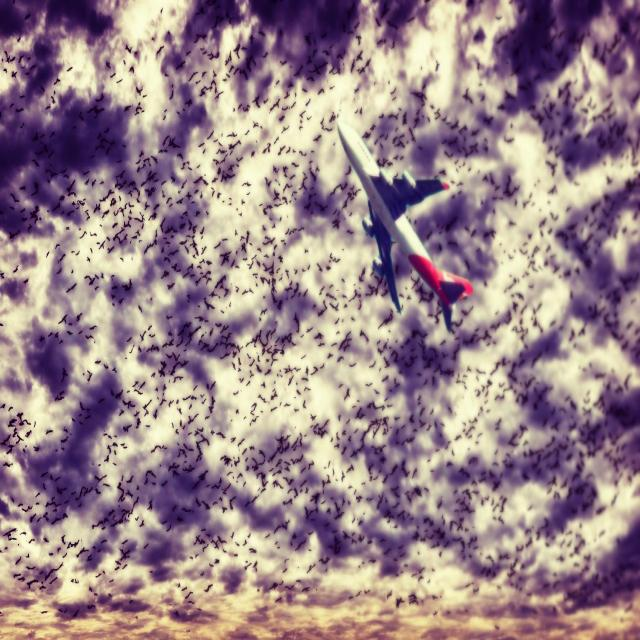airplane: (336, 118, 473, 333)
